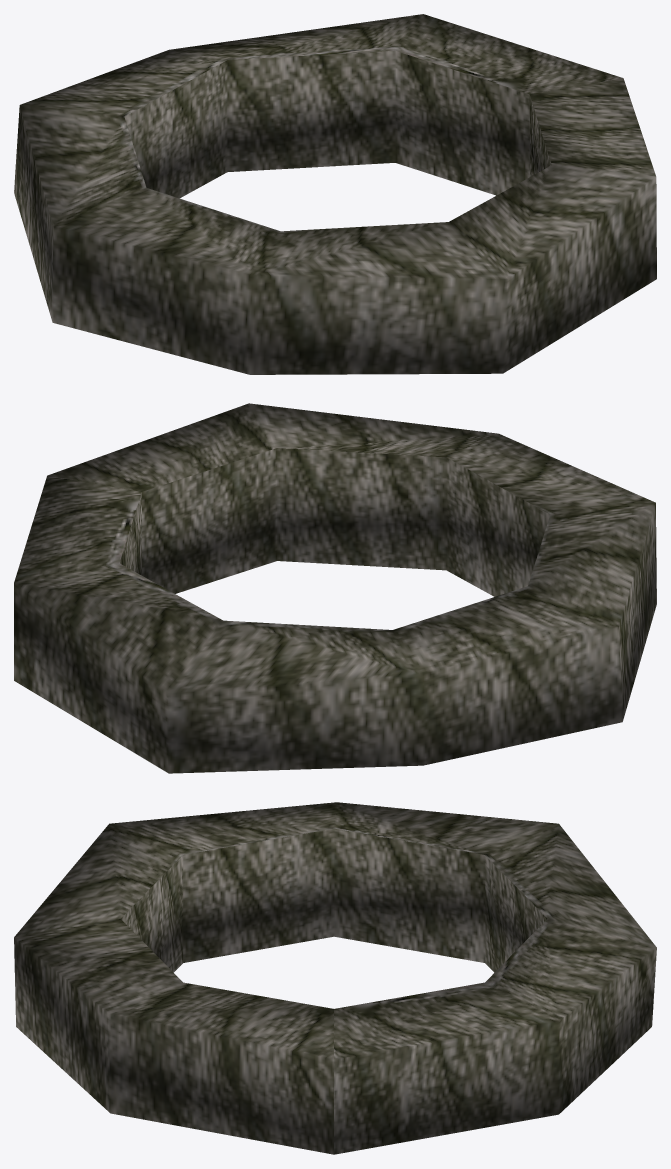
The model's file is TI_Knot_04.fbx.
3 views of the same model, one above another, from view 1: azimuth 30°, elevation 25°; view 2: azimuth 150°, elevation 25°; view 3: azimuth 270°, elevation 25° (orthographic). The views are drawn at different scales.
Visible parts, largest first — view 1: TI_Knot_04; view 2: TI_Knot_04; view 3: TI_Knot_04.
Boxes of the visible parts, bbox=[...] form: TI_Knot_04: bbox=[14, 14, 656, 374]; TI_Knot_04: bbox=[14, 403, 656, 773]; TI_Knot_04: bbox=[14, 802, 656, 1154].
Size of the model in its own units: 0.3173 by 0.0595 by 0.3208.
